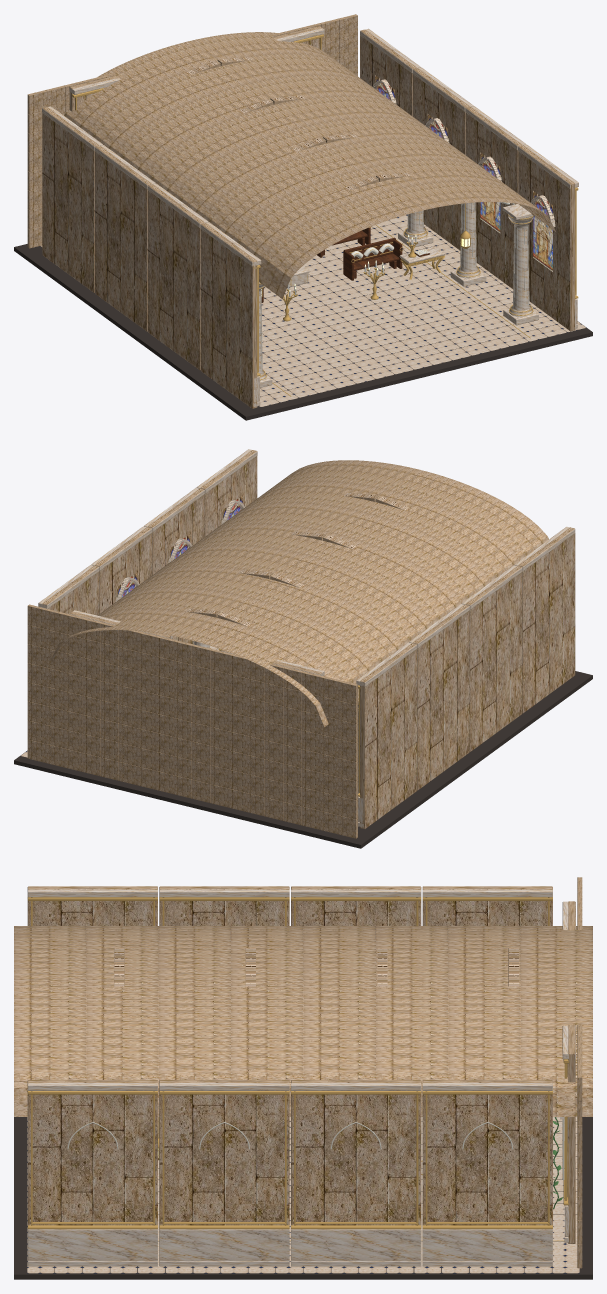
File: room-2.glb
The picture shows the model from 3 angles, top to bottom: view 1: azimuth 30°, elevation 25°; view 2: azimuth 150°, elevation 25°; view 3: azimuth 270°, elevation 25°; orthographic projection. The views are drawn at different scales.
Parts seen in each view (by area): view 1: Detailed Vaulted stone, Detailed Limestone ashlar, Detailed Fine floor tile, Detailed Ivory marble, Detailed Dark recess, Detailed Hand chased antique gilt, Detailed Original figurative stained glass, Detailed Polished dark walnut, Detailed Warm porcelain ivory; view 2: Detailed Limestone ashlar, Detailed Vaulted stone, Detailed Dark recess, Detailed Ivory marble, Detailed Original figurative stained glass; view 3: Detailed Vaulted stone, Detailed Limestone ashlar, Detailed Ivory marble, Detailed Hand chased antique gilt, Detailed Dark recess, Detailed Fine floor tile, Detailed Ivory marble curve fillet.
Part boxes in pixels (x1,y1,x2,y2): Detailed Vaulted stone: (64, 32, 555, 298); Detailed Limestone ashlar: (27, 14, 575, 408); Detailed Fine floor tile: (41, 214, 586, 406); Detailed Ivory marble: (42, 28, 578, 406); Detailed Dark recess: (14, 220, 592, 420); Detailed Hand chased antique gilt: (72, 34, 578, 396); Detailed Original figurative stained glass: (375, 75, 552, 271); Detailed Polished dark walnut: (261, 227, 430, 302); Detailed Warm porcelain ivory: (260, 202, 529, 370); Detailed Limestone ashlar: (27, 450, 575, 838); Detailed Vaulted stone: (51, 460, 548, 726); Detailed Dark recess: (14, 648, 592, 848); Detailed Ivory marble: (38, 449, 575, 827); Detailed Original figurative stained glass: (83, 495, 242, 612); Detailed Vaulted stone: (14, 926, 592, 1116); Detailed Limestone ashlar: (27, 877, 582, 1268); Detailed Ivory marble: (27, 889, 575, 1266); Detailed Hand chased antique gilt: (27, 897, 568, 1241); Detailed Dark recess: (14, 1117, 592, 1279); Detailed Fine floor tile: (27, 1117, 579, 1273); Detailed Ivory marble curve fillet: (67, 965, 564, 1180).
Bounding box in the file's own units: 19 × 8.92 × 22.
14 materials, 8 textured.
